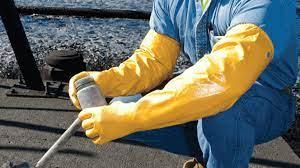gloves: (81, 103, 137, 144), (70, 68, 120, 110)
